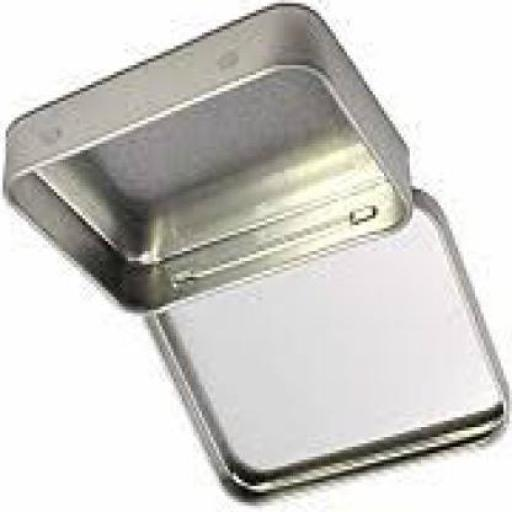metal: (9, 7, 412, 319), (148, 194, 510, 510)
